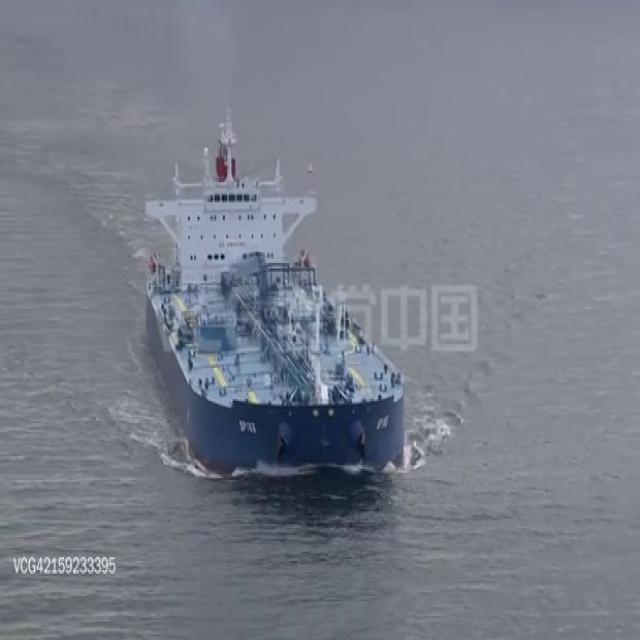cargoship: (142, 106, 412, 476)
